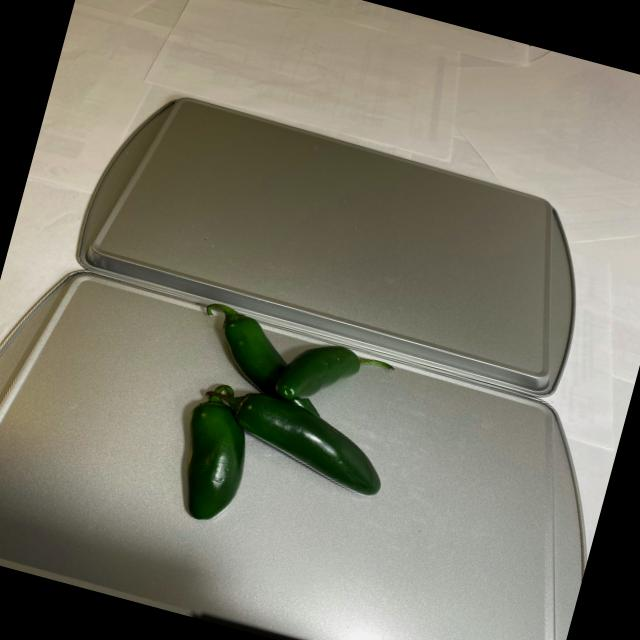chilli: (140, 292, 422, 566)
